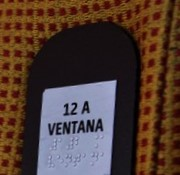Braille: (95, 135, 104, 149), (90, 152, 99, 166), (100, 151, 109, 165), (55, 155, 64, 168), (64, 154, 72, 168), (73, 153, 81, 167), (81, 152, 89, 166), (49, 139, 57, 151), (57, 138, 65, 150), (74, 137, 82, 149), (48, 156, 55, 169), (66, 138, 73, 150)
